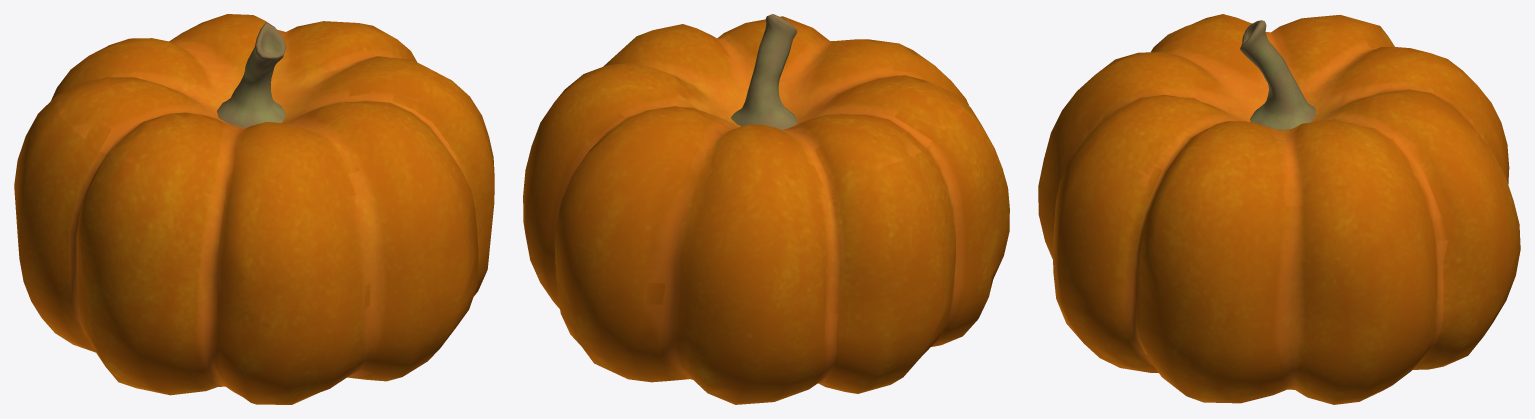
File: Pumpkin.obj
The picture shows the model from 3 angles, left to right: view 1: azimuth 30°, elevation 25°; view 2: azimuth 150°, elevation 25°; view 3: azimuth 270°, elevation 25°; orthographic projection.
Visible parts, largest first — view 1: 1_low_Pumpkin_low.001, 2_low; view 2: 1_low_Pumpkin_low.001, 2_low; view 3: 1_low_Pumpkin_low.001, 2_low.
Part boxes in pixels (left/top/right/bottom): 1_low_Pumpkin_low.001: left=14, top=14, right=494, bottom=404; 2_low: left=217, top=22, right=285, bottom=127; 1_low_Pumpkin_low.001: left=523, top=16, right=1009, bottom=404; 2_low: left=731, top=14, right=797, bottom=129; 1_low_Pumpkin_low.001: left=1038, top=14, right=1520, bottom=404; 2_low: left=1240, top=20, right=1315, bottom=129.
Size of the model in its own units: 1.37 by 1.03 by 1.39.
